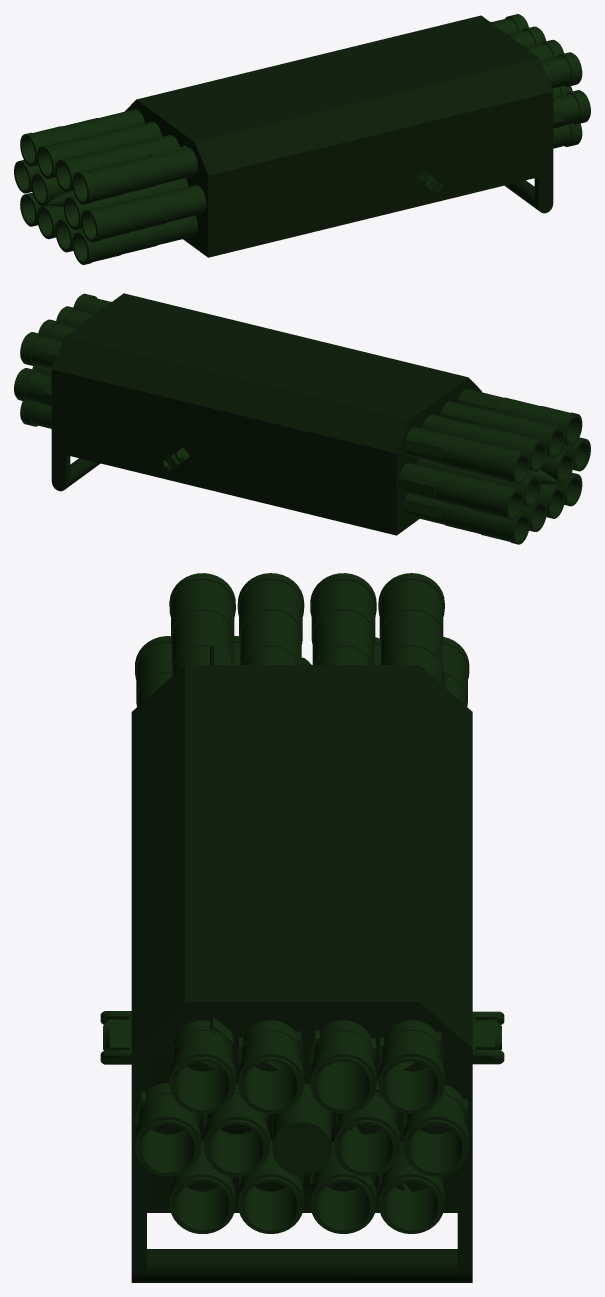
Rendered from garmata.fbx.
3 renders of one model, top to bottom at view 1: azimuth 30°, elevation 25°; view 2: azimuth 150°, elevation 25°; view 3: azimuth 270°, elevation 25°, orthographic. The views are drawn at different scales.
Parts seen in each view (by area): view 1: гармата; view 2: гармата; view 3: гармата.
Boxes of the visible parts, <box> form: гармата: <box>14,14,590,264</box>; гармата: <box>14,293,590,544</box>; гармата: <box>100,573,504,1282</box>.
Size of the model in its own units: 5361 by 1461 by 1865.
